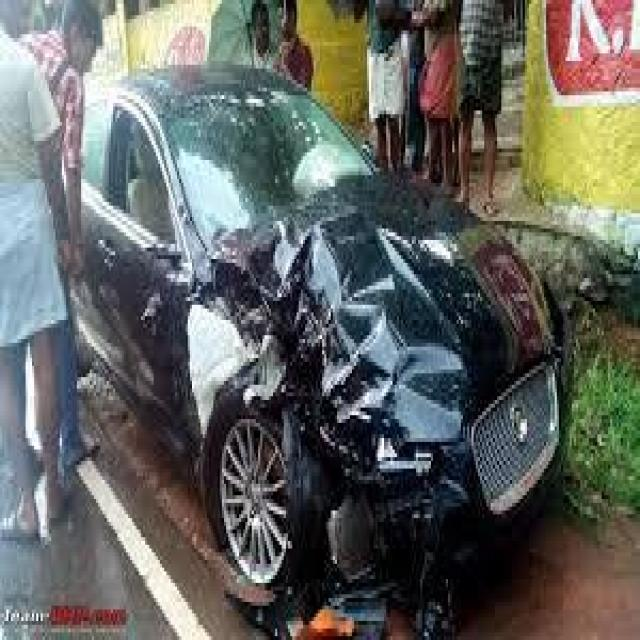accident: (68, 38, 574, 617)
